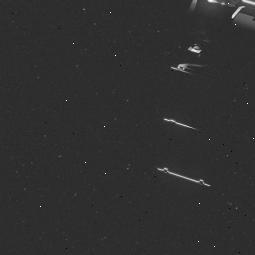earth_observation_sat_1: (163, 0, 255, 88)
